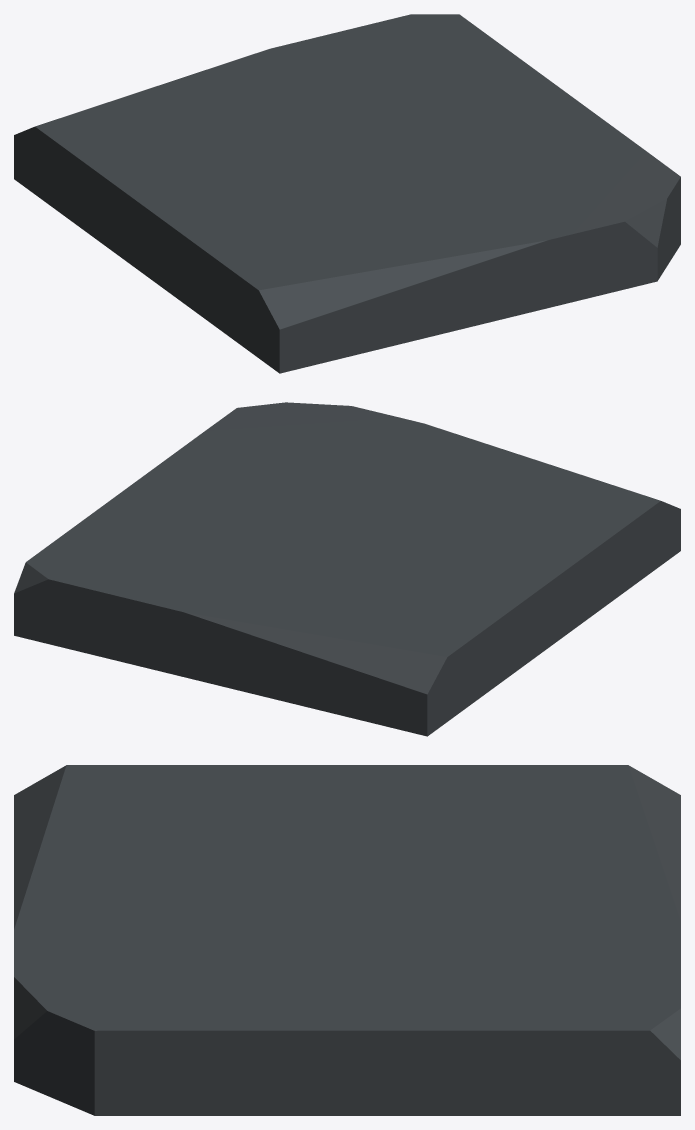
File: Tile_04.fbx
3 renders of one model, top to bottom at view 1: azimuth 30°, elevation 25°; view 2: azimuth 150°, elevation 25°; view 3: azimuth 270°, elevation 25°, orthographic. The views are drawn at different scales.
Visible parts, largest first — view 1: Tile_04_LOD0; view 2: Tile_04_LOD0; view 3: Tile_04_LOD0.
Boxes of the visible parts, bbox=[...] form: Tile_04_LOD0: bbox=[14, 14, 680, 373]; Tile_04_LOD0: bbox=[14, 402, 680, 736]; Tile_04_LOD0: bbox=[14, 765, 680, 1115].
Size of what is drawn, in the model's own units: 44.39 by 6.65 by 47.14.
